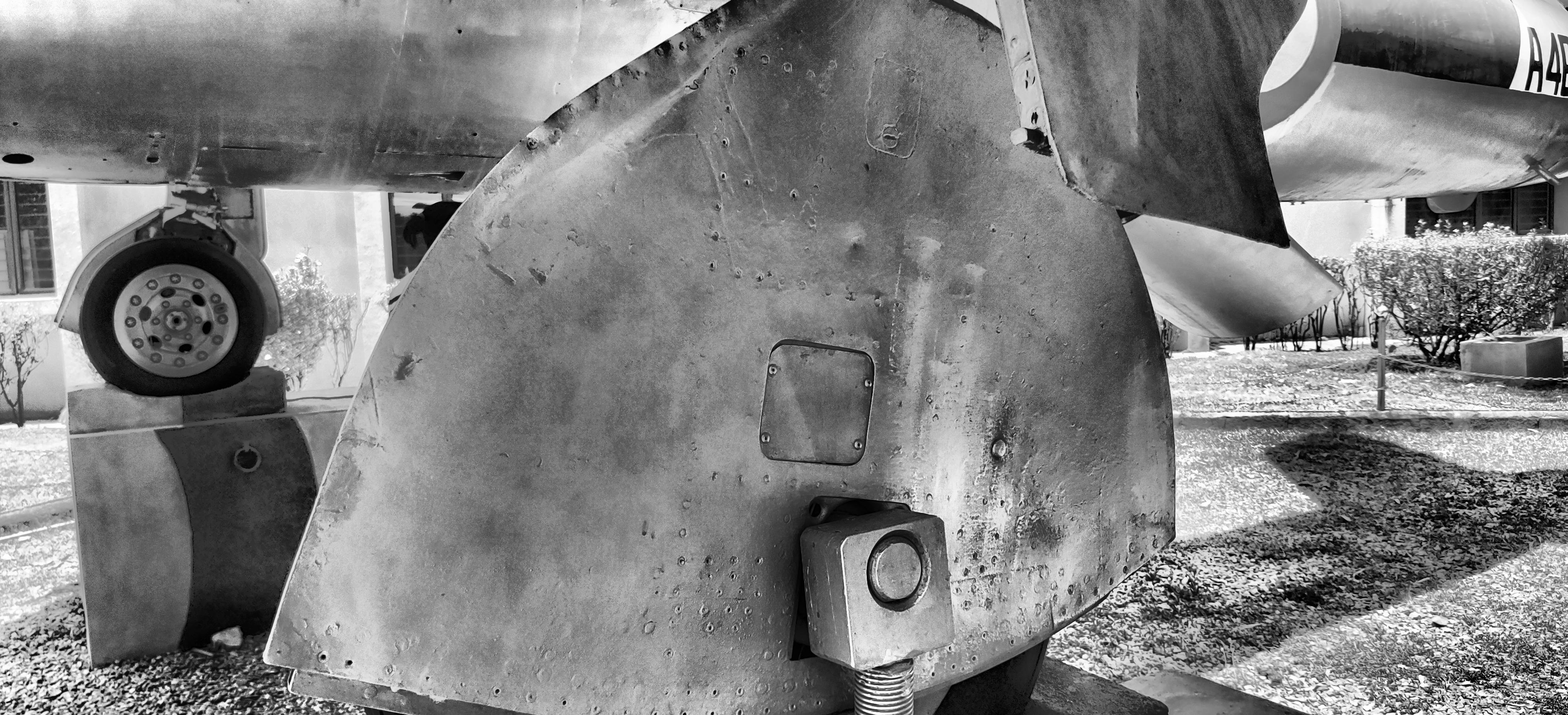crack: (1051, 612, 1055, 632)
dent: (546, 38, 727, 183), (528, 109, 563, 150), (1130, 69, 1145, 143), (568, 83, 601, 112), (622, 61, 647, 83), (397, 354, 419, 379), (662, 38, 678, 54)
missing-head: (807, 498, 826, 520), (982, 630, 989, 640), (710, 260, 717, 270), (736, 48, 744, 56), (493, 688, 502, 695), (677, 557, 686, 564), (971, 551, 978, 560), (561, 699, 568, 707), (704, 557, 711, 565), (971, 655, 978, 663), (720, 139, 728, 146), (730, 572, 736, 581), (756, 557, 763, 564), (757, 275, 764, 282), (713, 688, 719, 696), (789, 703, 797, 709), (815, 700, 821, 708), (707, 624, 713, 631), (978, 565, 984, 572), (951, 663, 957, 670), (790, 193, 797, 199), (678, 2, 684, 9), (931, 672, 937, 678), (726, 607, 731, 614), (1010, 639, 1015, 646), (764, 707, 769, 713), (948, 645, 953, 651), (710, 711, 717, 715), (1000, 501, 1004, 507), (681, 711, 688, 714), (721, 173, 724, 180), (737, 710, 742, 714), (709, 9, 713, 13)
paint-peel-off: (528, 267, 548, 283)
scratch: (367, 368, 382, 426), (338, 437, 385, 448), (495, 267, 514, 283)
